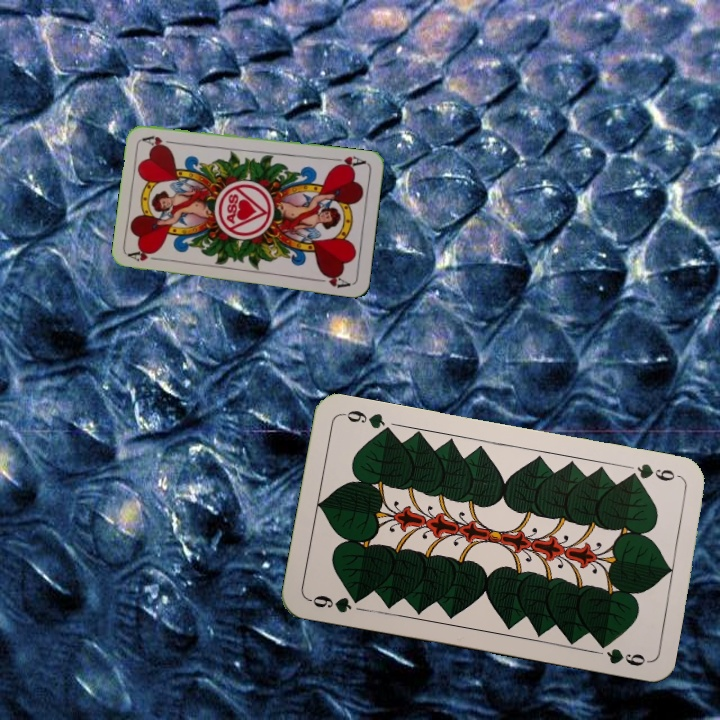G9: (305, 591, 366, 616), (622, 459, 683, 484)
HA: (328, 151, 369, 171), (126, 247, 166, 263)
